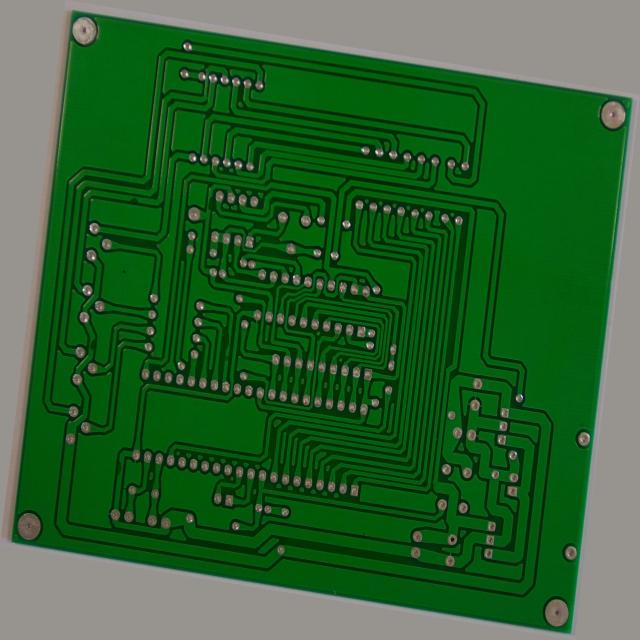mouse_bite: (215, 347, 227, 376), (117, 516, 126, 543), (179, 194, 189, 218), (68, 381, 79, 402), (92, 210, 110, 222)
